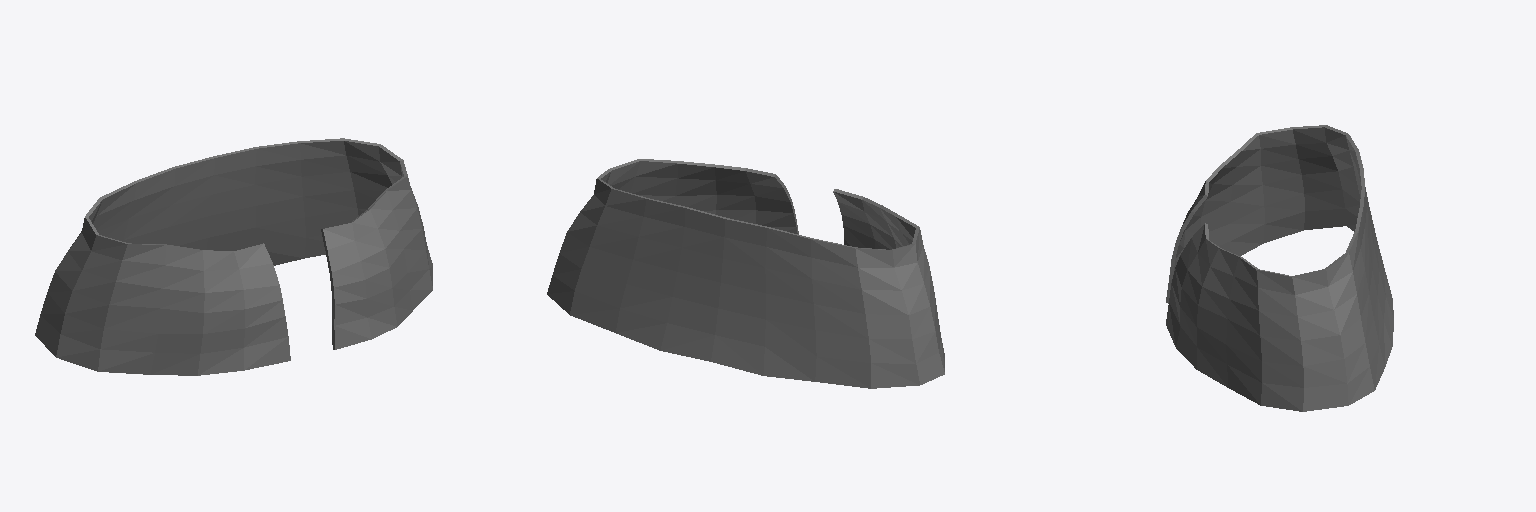
The model's file is LowPoly_Aristocrata_CapaCima.obj.
3 views of the same model, side by side, from view 1: azimuth 30°, elevation 25°; view 2: azimuth 150°, elevation 25°; view 3: azimuth 270°, elevation 25° (orthographic).
Visible parts, largest first — view 1: LowPoly_Aristocrata_CapaCima; view 2: LowPoly_Aristocrata_CapaCima; view 3: LowPoly_Aristocrata_CapaCima.
Boxes of the visible parts, box(x1,y1,x2,y2) form: LowPoly_Aristocrata_CapaCima: box(35, 138, 432, 375); LowPoly_Aristocrata_CapaCima: box(547, 159, 944, 388); LowPoly_Aristocrata_CapaCima: box(1166, 125, 1393, 411).
Size of the model in its own units: 77.46 by 26.87 by 40.66.